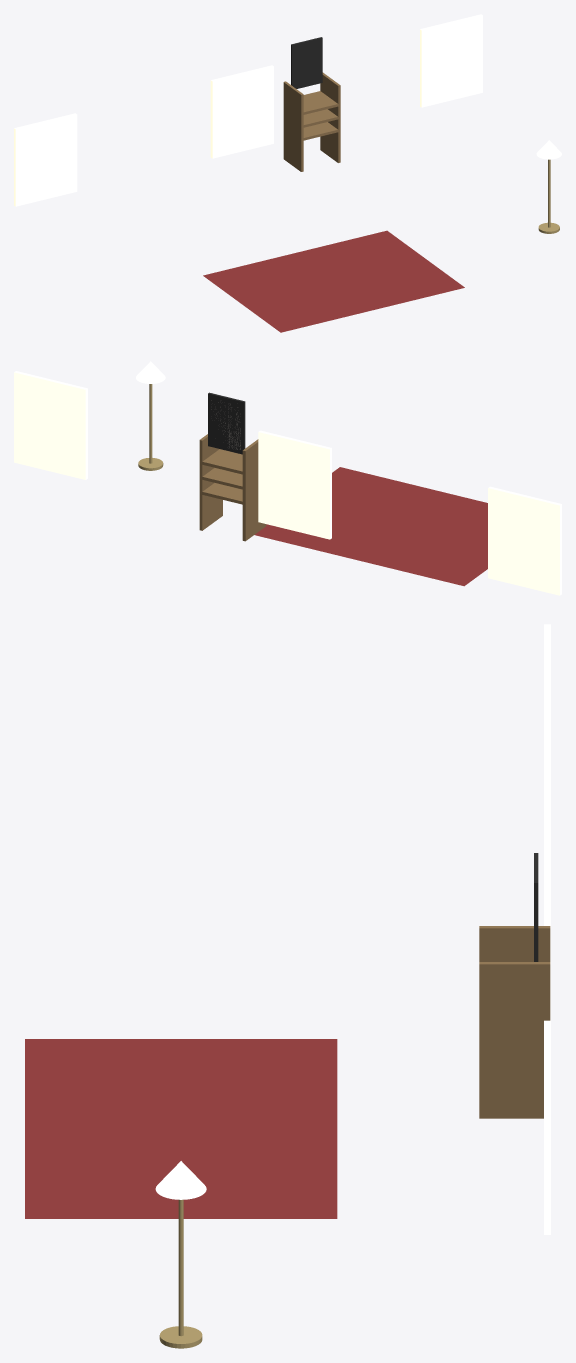
The model's file is Decor.glb.
3 renders of one model, top to bottom at view 1: azimuth 30°, elevation 25°; view 2: azimuth 150°, elevation 25°; view 3: azimuth 270°, elevation 25°, orthographic. The views are drawn at different scales.
Parts seen in each view (by area): view 1: Rug, Window1, Window2, Window3, ShelfL, Frame, ShelfR, ShelfTop, ShelfBot, ShelfMid; view 2: Rug, Window1, Window2, Window3, Frame, ShelfL, ShelfR, ShelfTop, ShelfBot, ShelfMid, LampShade, LampStand; view 3: Rug, ShelfR, ShelfL, Window3, Window1, LampShade.
Boxes of the visible parts, x1=… form: Rug: x1=203, y1=230, x2=464, y2=332; Window1: x1=14, y1=113, x2=77, y2=206; Window2: x1=210, y1=65, x2=273, y2=158; Window3: x1=420, y1=14, x2=482, y2=107; ShelfL: x1=283, y1=81, x2=303, y2=171; Frame: x1=291, y1=37, x2=322, y2=88; ShelfR: x1=320, y1=72, x2=340, y2=162; ShelfTop: x1=303, y1=91, x2=338, y2=114; ShelfBot: x1=302, y1=122, x2=338, y2=140; ShelfMid: x1=303, y1=109, x2=338, y2=127; Rug: x1=255, y1=467, x2=487, y2=586; Window1: x1=488, y1=486, x2=561, y2=595; Window2: x1=258, y1=430, x2=331, y2=539; Window3: x1=14, y1=371, x2=87, y2=479; Frame: x1=208, y1=392, x2=245, y2=454; ShelfL: x1=242, y1=439, x2=266, y2=541; ShelfR: x1=199, y1=434, x2=222, y2=530; ShelfTop: x1=201, y1=449, x2=243, y2=474; ShelfBot: x1=201, y1=483, x2=243, y2=504; ShelfMid: x1=201, y1=468, x2=243, y2=489; LampShade: x1=136, y1=361, x2=165, y2=383; LampStand: x1=149, y1=384, x2=152, y2=463; Rug: x1=25, y1=1039, x2=337, y2=1218; ShelfR: x1=479, y1=962, x2=550, y2=1118; ShelfL: x1=479, y1=926, x2=550, y2=961; Window3: x1=544, y1=1020, x2=550, y2=1234; Window1: x1=544, y1=624, x2=550, y2=816; LampShade: x1=155, y1=1161, x2=206, y2=1199.
Bounding box in the file's own units: 7.6 × 2.5 × 3.7.
